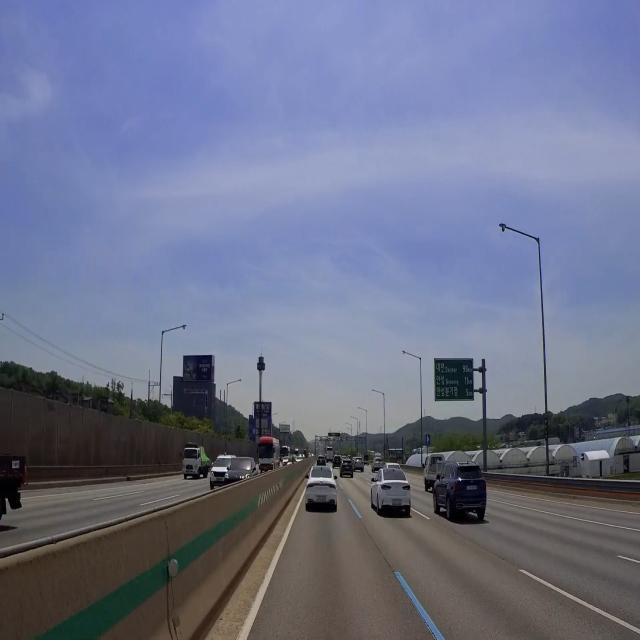car: (389, 494, 407, 509), (465, 481, 484, 495), (313, 494, 331, 505)
